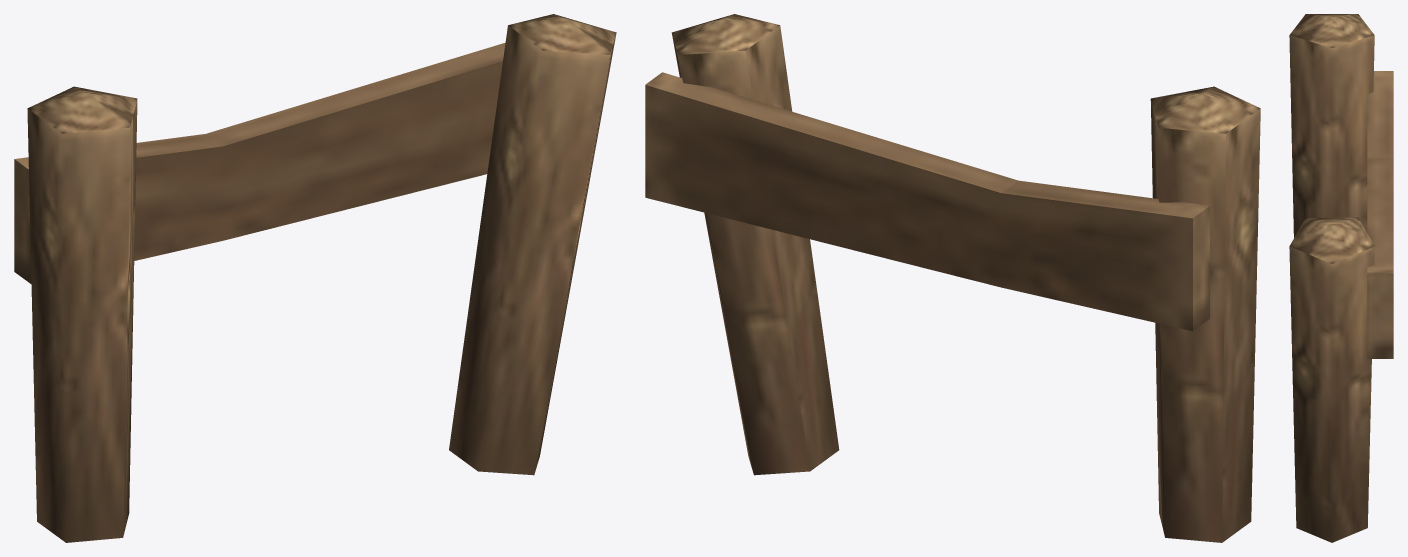
Rendered from a_fence_1.FBX.
3 renders of one model, left to right at view 1: azimuth 30°, elevation 25°; view 2: azimuth 150°, elevation 25°; view 3: azimuth 270°, elevation 25°, orthographic. The views are drawn at different scales.
Parts seen in each view (by area): view 1: Cylinder009; view 2: Cylinder009; view 3: Cylinder009.
Boxes of the visible parts, x1,y1,x2,y2 form: Cylinder009: [14, 14, 616, 542]; Cylinder009: [645, 14, 1260, 542]; Cylinder009: [1289, 14, 1393, 542].
Size of the model in its own units: 34.46 by 7.17 by 27.19.
